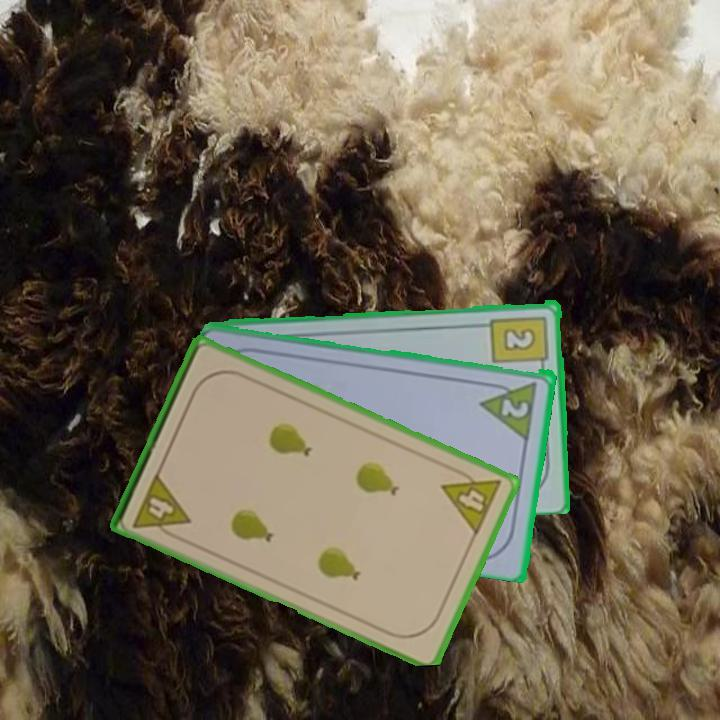2b: (488, 312, 551, 373)
2p: (478, 376, 541, 441)
4p: (438, 462, 505, 538), (129, 469, 194, 543)
